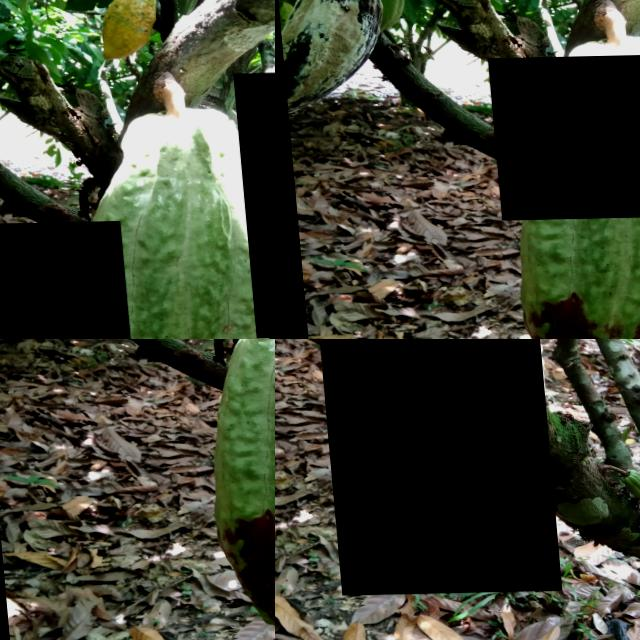Fitoftora: (306, 339, 552, 596), (484, 52, 640, 221)
Sana: (0, 222, 128, 339)
